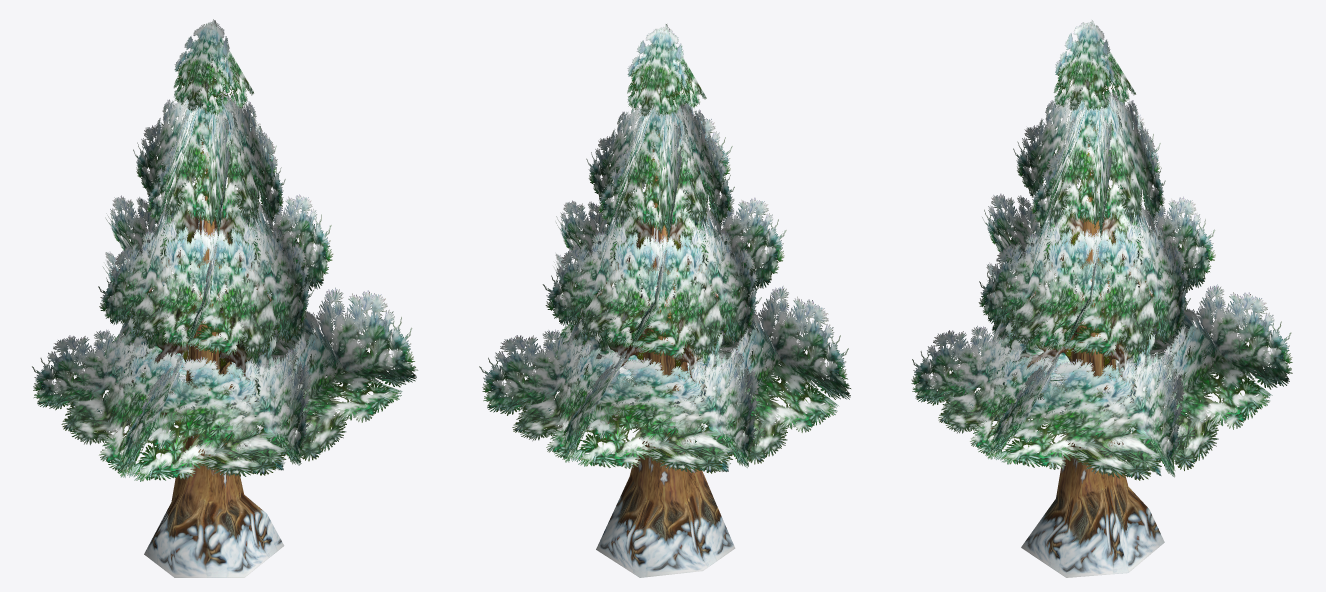
File: wintertree01.obj
The picture shows the model from 3 angles, left to right: view 1: azimuth 30°, elevation 25°; view 2: azimuth 150°, elevation 25°; view 3: azimuth 270°, elevation 25°; orthographic projection.
Visible parts, largest first — view 1: Geoset1, Geoset0, Geoset2; view 2: Geoset1, Geoset0, Geoset2; view 3: Geoset1, Geoset0, Geoset2.
Part boxes in pixels (x1,y1,x2,y2): Geoset1: (32,19,417,481); Geoset0: (144,126,284,577); Geoset2: (80,118,285,470); Geoset1: (479,24,850,473); Geoset0: (596,93,735,577); Geoset2: (532,126,730,471); Geoset1: (911,20,1292,480); Geoset0: (1021,126,1164,577); Geoset2: (949,120,1161,475).
Size of the model in its own units: 43.16 by 68.28 by 48.92.
Materials: 3 (3 with a texture image).
